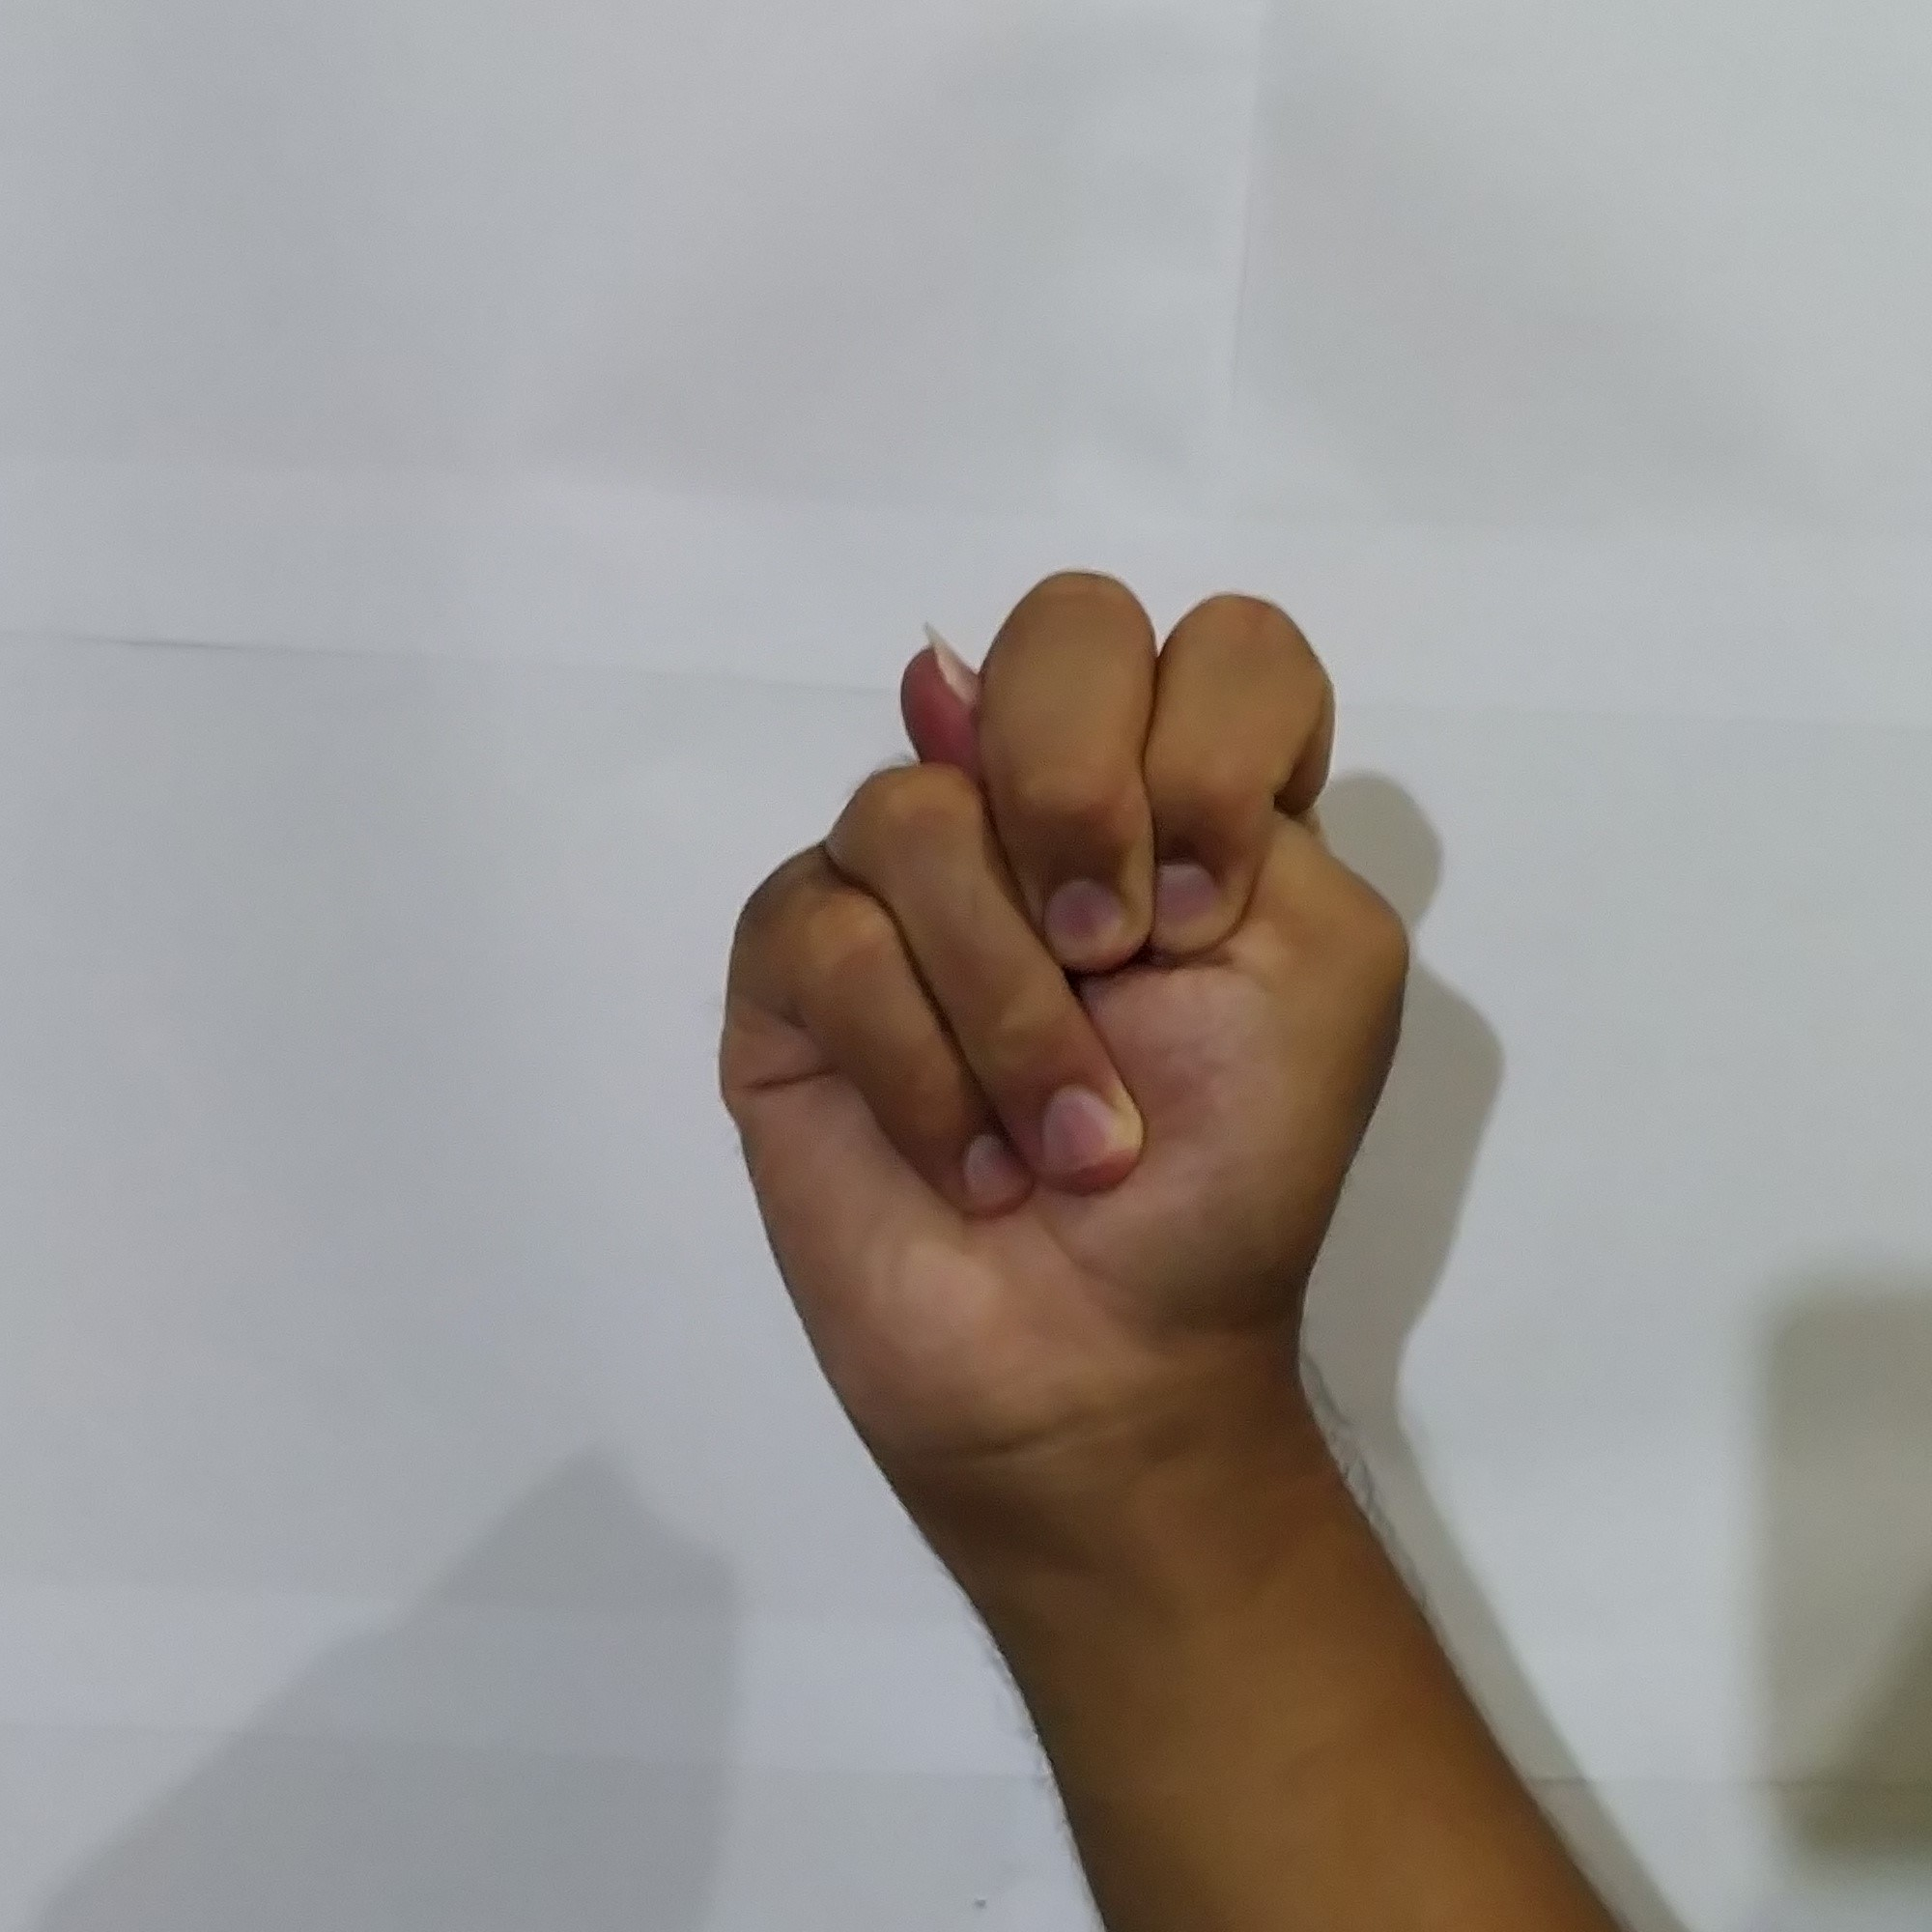N: (692, 545, 1442, 1407)
